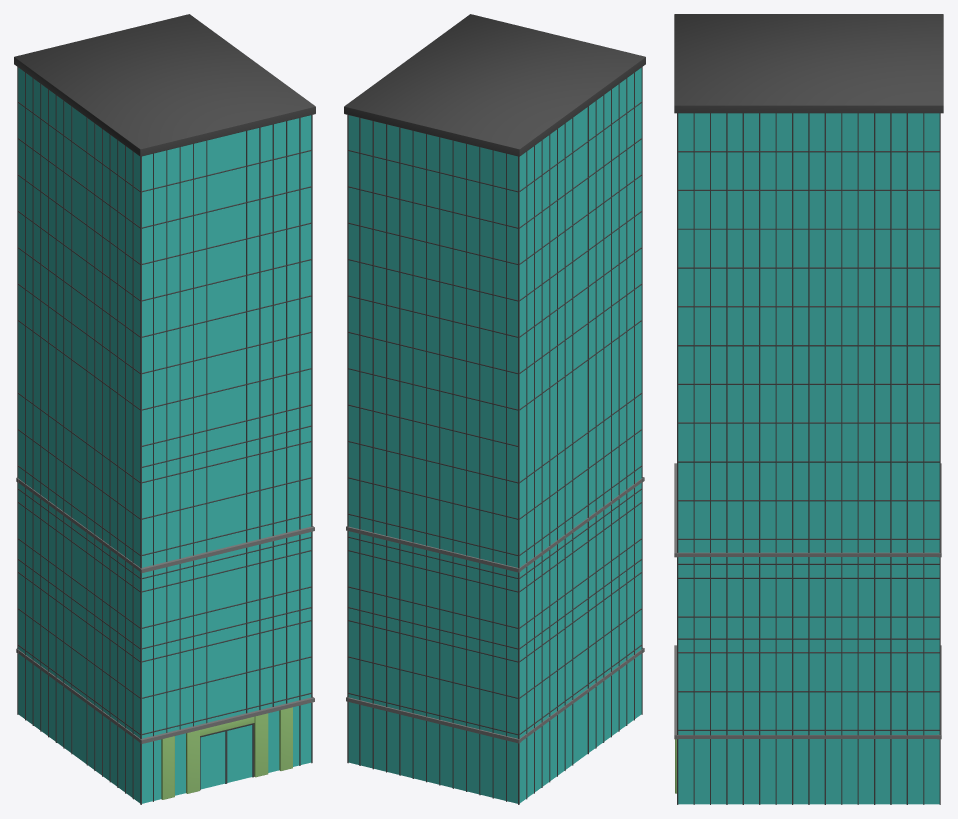
The model's file is SM_building_skyscraper_01.fbx.
3 renders of one model, left to right at view 1: azimuth 30°, elevation 25°; view 2: azimuth 150°, elevation 25°; view 3: azimuth 270°, elevation 25°, orthographic. The views are drawn at different scales.
Visible parts, largest first — view 1: Box501; view 2: Box501; view 3: Box501.
Boxes of the visible parts, x1=… form: Box501: x1=14, y1=14, x2=315, y2=804; Box501: x1=344, y1=14, x2=645, y2=804; Box501: x1=674, y1=14, x2=943, y2=804.
Size of the model in its own units: 636 by 2272 by 792.
